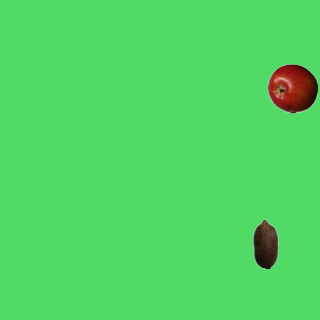Apple Braeburn: (267, 63, 317, 113)
Nut Pecan: (240, 218, 290, 268)
